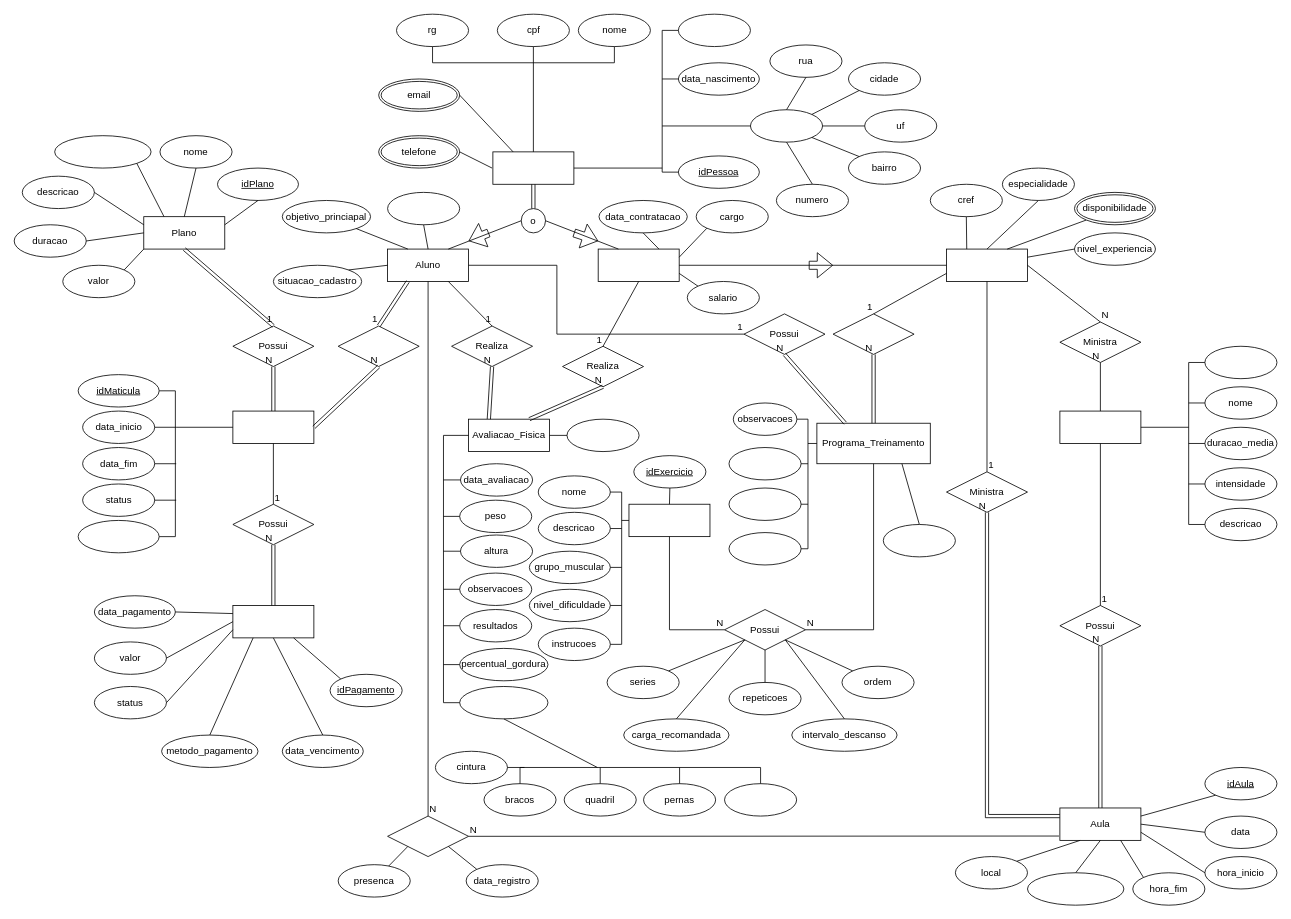
The diagram is 1291 pixels wide and 919 high, and some of its shapes have lost their labels. The shapes that lost their labels are listed below. From the top down, each one's centre as x and y in pixels, then its label:
At point (714, 30): "sexo".
At point (786, 125): "endereco".
At point (102, 151): "modalidade_acesso".
At point (533, 167): "Pessoa".
At point (423, 208): "data_ingresso".
At point (638, 264): "Funcionario".
At point (986, 264): "Professor".
At point (378, 346): "Faz".
At point (873, 333): "Elabora".
At point (1240, 362): "idModalidade".
At point (273, 426): "Matricula".
At point (602, 435): "idAvaliacao".
At point (1100, 426): "Modalidade".
At point (764, 463): "objetivo".
At point (669, 520): "Exercicio".
At point (764, 503): "data_cracao".
At point (118, 536): "valor_contratado".
At point (764, 548): "data_validade".
At point (918, 540): "idPrograma".
At point (273, 621): "Pagamento".
At point (503, 702): "medidas_corporais".
At point (760, 799): "peito".
At point (428, 836): "Participa".
At point (1075, 888): "capacidade_maxima".
